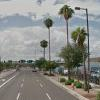Tree: (52, 4, 88, 67)
